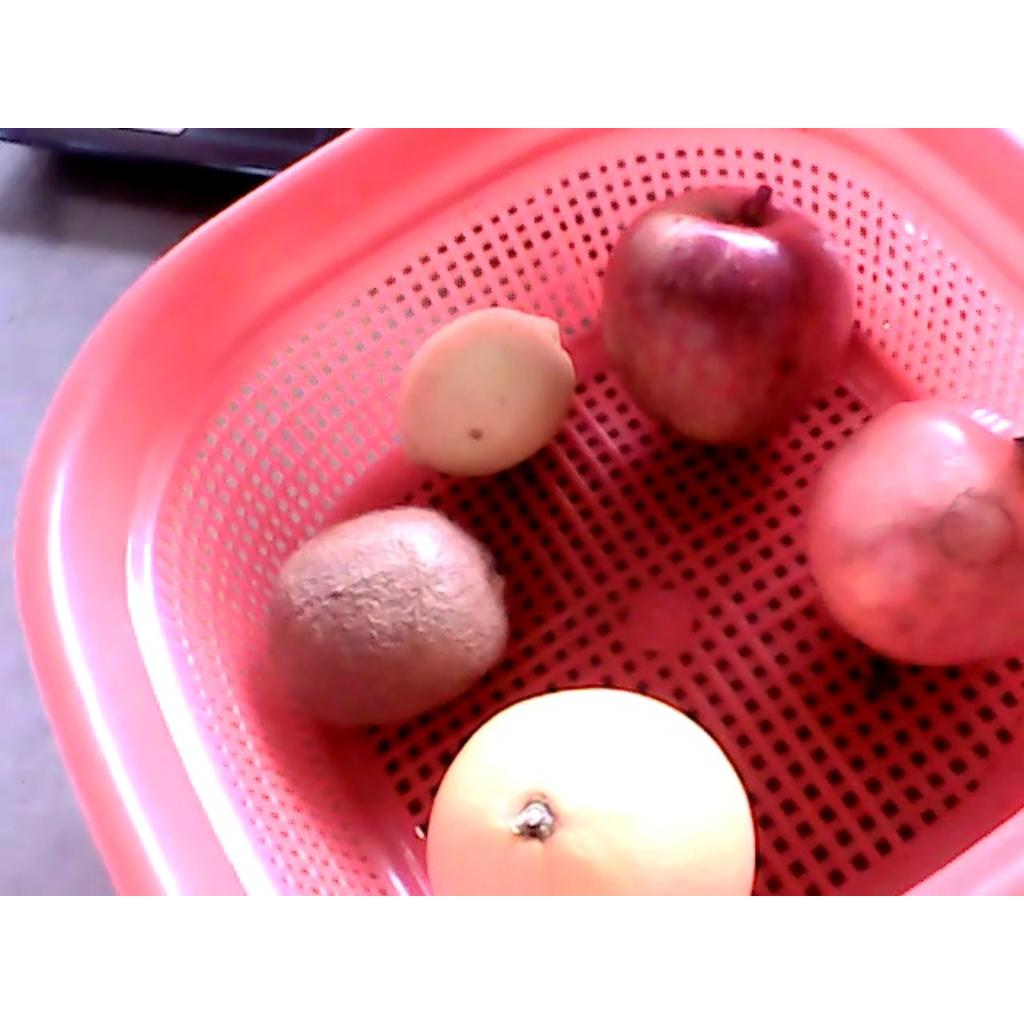apple: (602, 183, 855, 447)
kiwi: (264, 509, 510, 726)
lemon: (401, 311, 577, 478)
orange: (425, 689, 757, 894)
pomegranate: (800, 400, 1022, 664)
